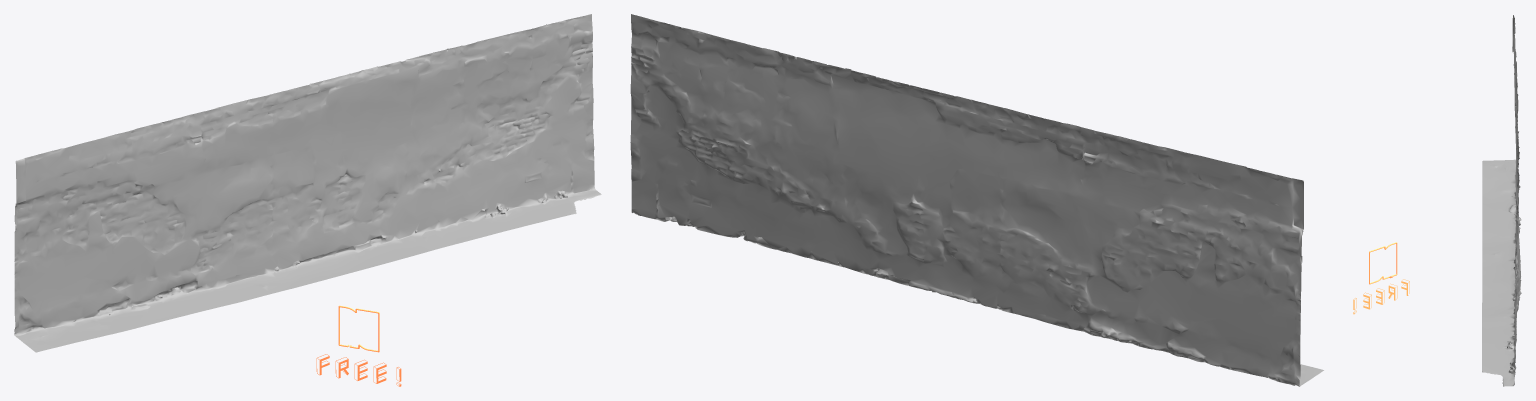
The picture shows the model from 3 angles, left to right: view 1: azimuth 30°, elevation 25°; view 2: azimuth 150°, elevation 25°; view 3: azimuth 270°, elevation 25°; orthographic projection. The views are drawn at different scales.
Parts seen in each view (by area): view 1: Brick_Wall_5M_Berlin_yhtvxwB_Brick_Wall_5M_Berlin_yhtvxwB_4K, Text; view 2: Brick_Wall_5M_Berlin_yhtvxwB_Brick_Wall_5M_Berlin_yhtvxwB_4K; view 3: Brick_Wall_5M_Berlin_yhtvxwB_Brick_Wall_5M_Berlin_yhtvxwB_4K, Text, N logo.
Boxes of the visible parts, left/top/right/bottom form: Brick_Wall_5M_Berlin_yhtvxwB_Brick_Wall_5M_Berlin_yhtvxwB_4K: left=14, top=14, right=601, bottom=352; Text: left=316, top=354, right=401, bottom=386; Brick_Wall_5M_Berlin_yhtvxwB_Brick_Wall_5M_Berlin_yhtvxwB_4K: left=630, top=14, right=1323, bottom=386; Brick_Wall_5M_Berlin_yhtvxwB_Brick_Wall_5M_Berlin_yhtvxwB_4K: left=1482, top=15, right=1521, bottom=386; Text: left=1353, top=279, right=1409, bottom=314; N logo: left=1369, top=242, right=1397, bottom=284.
Size of the model in its own units: 7.22 by 2.74 by 2.21.
